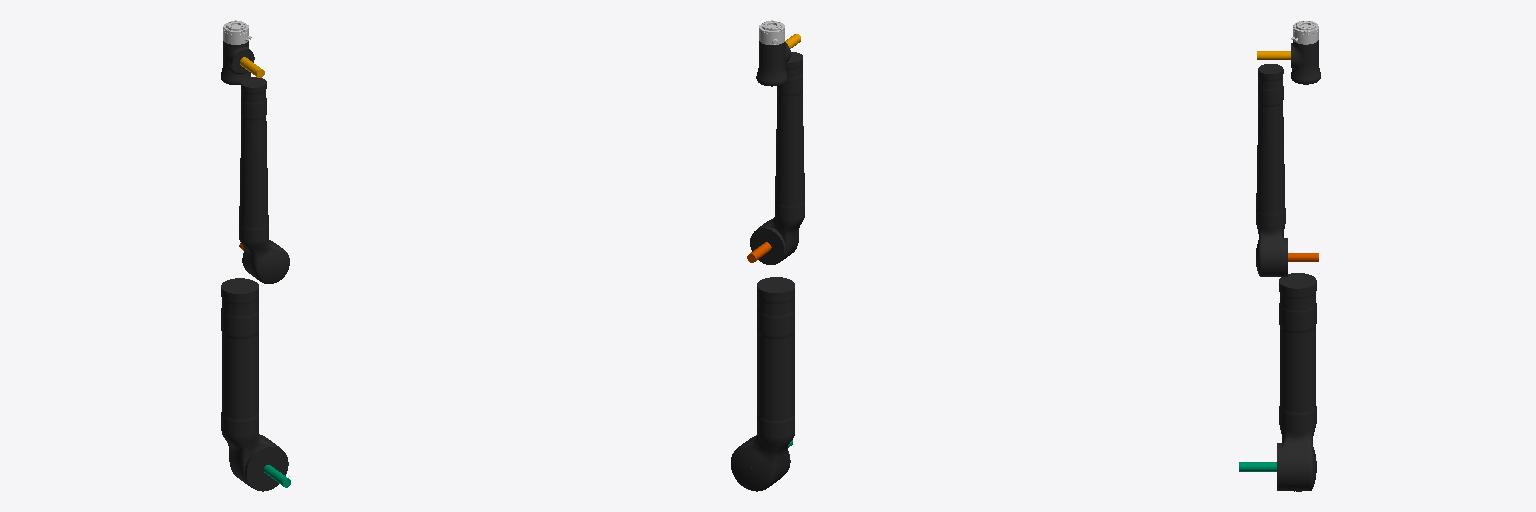
URDF robot description (kr2_robot_a1410):
<?xml version="1.0" ?>
<!-- =================================================================================== -->
<!-- |    This document was autogenerated by xacro from src/kr2_robot_S00V0003M1410.xacro | -->
<!-- |    EDITING THIS FILE BY HAND IS NOT RECOMMENDED                                 | -->
<!-- =================================================================================== -->
<robot features="TIO" mechanical-revision="0" model="a1410" model-revision="250731-0" name="kr2_robot_a1410">
  <ruid>0</ruid>
  <!-- links -->
  <link name="base">
    <inertial>
      <origin rpy="0 0 0" xyz="0 0 0.1365"/>
      <mass value="8.2"/>
      <inertia ixx="0.003" ixy="0.0" ixz="0.0" iyy="0.003" iyz="0.0" izz="0.003"/>
    </inertial>
    <visual>
      <origin rpy="0 0 0" xyz="0 0 0.035"/>
      <geometry>
        <mesh filename="package://ros2_description/meshes/a1410/a1410_BaseEdge.stl" scale="0.001 0.001 0.001"/>
      </geometry>
      <material name="">
        <color rgba="0.2 0.2 0.2 1"/>
      </material>
    </visual>
  </link>
  <link name="link1">
    <inertial>
      <origin rpy="1.5707963267948966 0 0" xyz="0.062 0 0.35619999999999996"/>
      <mass value="10.2"/>
      <inertia ixx="0.003" ixy="0.0" ixz="0.0" iyy="0.003" iyz="0.0" izz="0.003"/>
    </inertial>
    <visual>
      <origin rpy="0 0 0" xyz="0.062 0 0.357"/>
      <geometry>
        <mesh filename="package://ros2_description/meshes/a1410/a1410_Link2.stl" scale="0.001 0.001 0.001"/>
      </geometry>
      <material name="">
        <color rgba="0.2 0.2 0.2 1"/>
      </material>
    </visual>
  </link>
  <link name="linkJ2">
    <inertial>
      <origin rpy="0 0 0" xyz="-0.062 0.1052 0.29760000000000003"/>
      <mass value="1.51"/>
      <inertia ixx="0.003" ixy="0.0" ixz="0.0" iyy="0.003" iyz="0.0" izz="0.003"/>
    </inertial>
    <visual>
      <origin rpy="1.5707963267948966 0 0" xyz="0 -0.006 0"/>
      <geometry>
        <cylinder length="0.15" radius="0.015"/>
      </geometry>
      <material name="orange"/>
    </visual>
  </link>
  <link name="link2">
    <inertial>
      <origin rpy="0 0 0" xyz="0 0 0.5396000000000001"/>
      <mass value="4.7"/>
      <inertia ixx="0.003" ixy="0.0" ixz="0.0" iyy="0.003" iyz="0.0" izz="0.003"/>
    </inertial>
    <visual>
      <origin rpy="0 0 0" xyz="0 0.00 0.17"/>
      <geometry>
        <mesh filename="package://ros2_description/meshes/a1410/a1410_Link3.stl" scale="0.001 0.001 0.001"/>
      </geometry>
      <material name="">
        <color rgba="0.2 0.2 0.2 1"/>
      </material>
    </visual>
  </link>
  <link name="link3">
    <inertial>
      <origin rpy="-1.5707963267948966 0 0" xyz="0.05 0 0.1829"/>
      <mass value="5.78"/>
      <inertia ixx="0.003" ixy="0.0" ixz="0.0" iyy="0.003" iyz="0.0" izz="0.003"/>
    </inertial>
    <visual>
      <origin rpy="0 0 0" xyz="0.05 0 0.1829"/>
      <geometry>
        <mesh filename="package://ros2_description/meshes/a1410/a1410_Link4.stl" scale="0.001 0.001 0.001"/>
      </geometry>
      <material name="">
        <color rgba="0.2 0.2 0.2 1"/>
      </material>
    </visual>
  </link>
  <link name="linkJ4">
    <inertial>
      <origin rpy="0 0 0" xyz="-0.05 -0.0857 0.28452"/>
      <mass value="1.35"/>
      <inertia ixx="0.003" ixy="0.0" ixz="0.0" iyy="0.003" iyz="0.0" izz="0.003"/>
    </inertial>
    <visual>
      <origin rpy="1.5707963267948966 0 0" xyz="0 0.005 0"/>
      <geometry>
        <cylinder length="0.12" radius="0.015"/>
      </geometry>
      <material name="orange"/>
    </visual>
  </link>
  <link name="link4">
    <inertial>
      <origin rpy="0 0 0" xyz="0 0 0.5764"/>
      <mass value="1.5"/>
      <inertia ixx="0.003" ixy="0.0" ixz="0.0" iyy="0.003" iyz="0.0" izz="0.003"/>
    </inertial>
    <visual>
      <origin rpy="3.1415926535 1.570796326795 0" xyz="0.126 0.0535 0.631"/>
      <geometry>
        <mesh filename="package://ros2_description/meshes/a1410/a1410_Link5.stl" scale="0.001 0.001 0.001"/>
      </geometry>
      <material name="">
        <color rgba="0.2 0.2 0.2 1"/>
      </material>
    </visual>
  </link>
  <link name="link5">
    <inertial>
      <origin rpy="1.5707963267948966 0 0" xyz="0 0 0.1011"/>
      <mass value="1.7"/>
      <inertia ixx="0.003" ixy="0.0" ixz="0.0" iyy="0.003" iyz="0.0" izz="0.003"/>
    </inertial>
    <visual>
      <origin rpy="0 0 0" xyz="0 0.002 0.1011"/>
      <geometry>
        <mesh filename="package://ros2_description/meshes/a1410/a1410_Link6.stl" scale="0.001 0.001 0.001"/>
      </geometry>
      <material name="">
        <color rgba="0.2 0.2 0.2 1"/>
      </material>
    </visual>
  </link>
  <link name="linkJ6">
    <inertial>
      <origin rpy="0 0 0" xyz="0 0 0"/>
      <mass value="0.0"/>
      <inertia ixx="0.003" ixy="0.0" ixz="0.0" iyy="0.003" iyz="0.0" izz="0.003"/>
    </inertial>
    <visual>
      <origin rpy="1.5707963267948966 0 0" xyz="0 0.01 0"/>
      <geometry>
        <cylinder length="0.105" radius="0.015"/>
      </geometry>
      <material name="orange"/>
    </visual>
  </link>
  <link name="link6">
    <inertial>
      <origin rpy="0 0 0" xyz="0 0 0"/>
      <mass value="1.76"/>
      <inertia ixx="0.003" ixy="0.0" ixz="0.0" iyy="0.003" iyz="0.0" izz="0.003"/>
    </inertial>
    <visual>
      <origin rpy="0 0 0" xyz="0 0 0.002"/>
      <geometry>
        <mesh filename="package://ros2_description/meshes/a1410/a1410_Link7.stl" scale="0.001 0.001 0.001"/>
      </geometry>
      <material name="">
        <color rgba="0.2 0.2 0.2 1"/>
      </material>
    </visual>
  </link>
  <link name="end_effector">
    <inertial>
      <origin rpy="0 0 0" xyz="0 0 -0.021"/>
      <mass value="0.33"/>
      <inertia ixx="0.003" ixy="0.0" ixz="0.0" iyy="0.003" iyz="0.0" izz="0.003"/>
    </inertial>
    <visual>
      <origin rpy="0 0 0" xyz="0 0 -0.1051"/>
      <geometry>
        <mesh filename="package://ros2_description/meshes/a1410/a1410_ToolIO.stl" scale="0.001 0.001 0.001"/>
      </geometry>
      <material name="">
        <color rgba="0.8 0.8 0.8 1"/>
      </material>
    </visual>
  </link>
  <!-- joints -->
  <joint name="joint0" type="continuous">
    <parent link="base"/>
    <child link="link1"/>
    <origin rpy="0.0 -0.0 0.0" xyz="0 0 0.035"/>
    <axis xyz="0 0 1"/>
    <dynamics damping="1.0"/>
    <limit effort="500" lower="-6.283185307179586" upper="6.283185307179586" velocity="2.8361600344907854"/>
  </joint>
  <joint name="joint1" type="continuous">
    <parent link="link1"/>
    <child link="linkJ2"/>
    <origin rpy="0.0 0.0 0.0" xyz="0.062 0.0 0.3562"/>
    <axis xyz="0 1 0"/>
    <dynamics damping="1.0"/>
    <limit effort="500" lower="-1.2217304763960306" upper="3.141592653589793" velocity="2.8361600344907854"/>
  </joint>
  <joint name="jointPL2" type="fixed">
    <parent link="linkJ2"/>
    <child link="link2"/>
    <origin rpy="0.0 -0.0 0.0" xyz="-0.062 0.1052 0"/>
  </joint>
  <joint name="joint2" type="continuous">
    <parent link="link2"/>
    <child link="link3"/>
    <origin rpy="0 0 0" xyz="0 0 0.5396"/>
    <axis xyz="0 0 1"/>
    <dynamics damping="1.0"/>
    <limit effort="204" lower="-6.283185307179586" upper="6.283185307179586" velocity="3.9269908169872414"/>
  </joint>
  <joint name="joint3" type="continuous">
    <parent link="link3"/>
    <child link="linkJ4"/>
    <origin rpy="0.0 0.0 0.0" xyz="0.05 0.0 0.1829"/>
    <axis xyz="0 1 0"/>
    <dynamics damping="1.0"/>
    <limit effort="204" lower="-1.2217304763960306" upper="3.141592653589793" velocity="3.9269908169872414"/>
  </joint>
  <joint name="jointPL4" type="fixed">
    <parent link="linkJ4"/>
    <child link="link4"/>
    <origin rpy="0.0 -0.0 0.0" xyz="-0.05 -0.0857 0.0"/>
  </joint>
  <joint name="joint4" type="continuous">
    <parent link="link4"/>
    <child link="link5"/>
    <origin rpy="0 0 0" xyz="0 0 0.5764"/>
    <axis xyz="0 0 1"/>
    <dynamics damping="1.0"/>
    <limit effort="80" lower="-6.283185307179586" upper="6.283185307179586" velocity="3.9269908169872414"/>
  </joint>
  <joint name="joint5" type="continuous">
    <parent link="link5"/>
    <child link="linkJ6"/>
    <origin rpy="0.0 0.0 0.0" xyz="0.0 0 0.1011"/>
    <axis xyz="0 1 0"/>
    <dynamics damping="1.0"/>
    <limit effort="80" lower="-6.283185307179586" upper="6.283185307179586" velocity="3.9269908169872414"/>
  </joint>
  <joint name="jointPL6" type="fixed">
    <parent link="linkJ6"/>
    <child link="link6"/>
    <origin rpy="0.0 0.0 0.0" xyz="0.0 0.111 0"/>
  </joint>
  <joint name="joint6" type="continuous">
    <parent link="link6"/>
    <child link="end_effector"/>
    <origin rpy="0 0 0" xyz="0 0 0.108"/>
    <axis xyz="0 0 1"/>
    <dynamics damping="1.0"/>
    <limit effort="80" lower="-6.283185307179586" upper="6.283185307179586" velocity="3.9269908169872414"/>
  </joint>
</robot>

--- What the picture shows (computed from the rendered views, not written in the file) ---
The picture shows the robot from 3 angles, left to right: view 1: azimuth 30°, elevation 25°; view 2: azimuth 150°, elevation 25°; view 3: azimuth 270°, elevation 25°; orthographic projection.
Robot: kr2_robot_a1410 — 11 links, 10 joints (7 continuous, 3 fixed); root link base; default pose: every joint at zero.
Visible links, largest first — view 1: link2, link4, link6, end_effector; view 2: link2, link4, link6, end_effector; view 3: link2, link4, link6, end_effector.
Link boxes in pixels (left/top/right/bottom): link2: left=221, top=278, right=288, bottom=491; link4: left=239, top=77, right=289, bottom=283; link6: left=221, top=41, right=254, bottom=84; end_effector: left=223, top=20, right=251, bottom=44; link2: left=731, top=277, right=794, bottom=491; link4: left=750, top=52, right=804, bottom=264; link6: left=756, top=41, right=790, bottom=86; end_effector: left=759, top=20, right=784, bottom=44; link2: left=1277, top=273, right=1316, bottom=491; link4: left=1256, top=64, right=1287, bottom=276; link6: left=1291, top=40, right=1320, bottom=84; end_effector: left=1291, top=21, right=1318, bottom=44.
Size in the robot's own frame: 0.1985 by 0.2595 by 1.59 metres.
Meshes: 8 distinct files referenced, 4 mesh visuals loaded (4 binary STL); not drawn: 4 (reference not matched to a file when rendering).
